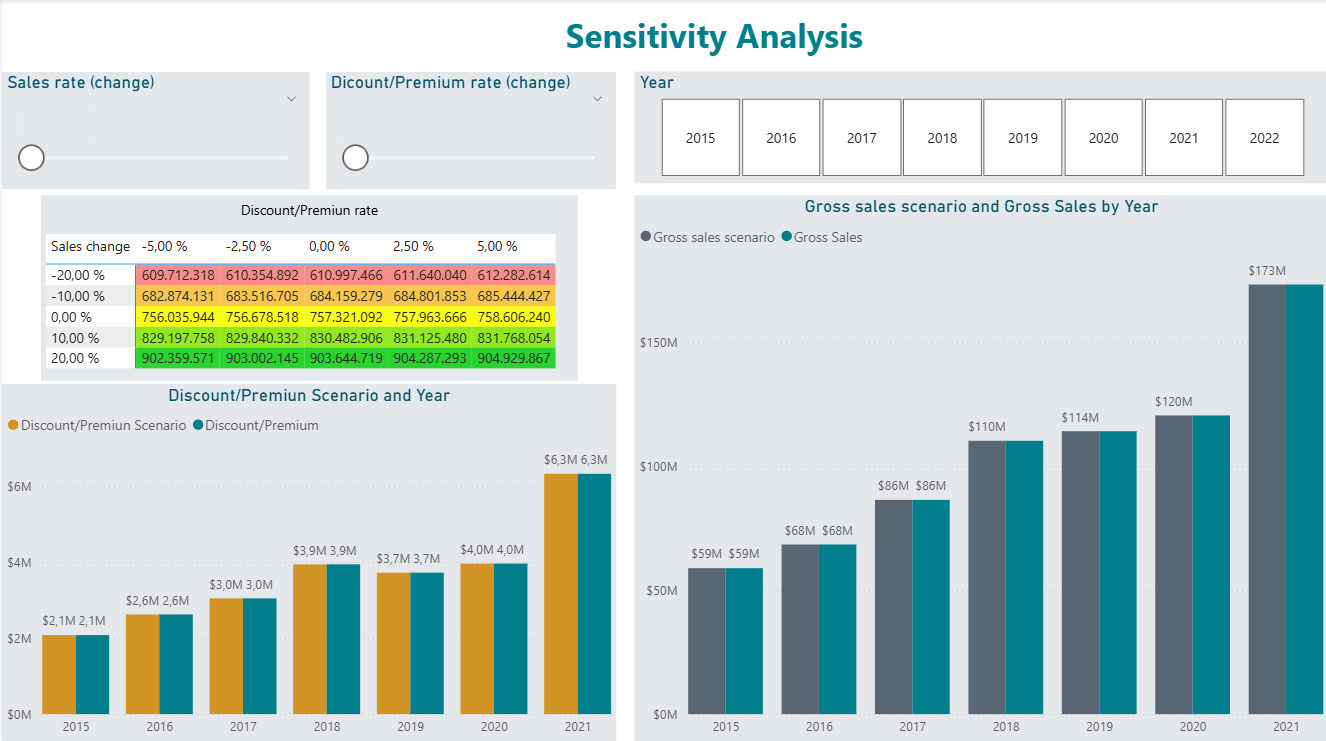

The dashboard page shown, as its layout file describes it:
{"tool":"powerbi","page":{"name":"Sensitivity Analysis","canvas":[1280,720],"ordinal":4},"visuals":[{"type":"slicer","title":"Sales rate (change)","fields":{"Values":["Sales change.Sales change"]},"box":[0,69.7,297.1,113.7],"z":0},{"type":"slicer","title":"Dicount/Premium rate (change)","fields":{"Values":["Discount/Premiun Change.Discount/Premiun Change"]},"box":[313,69.7,280,113.7],"z":1000},{"type":"clusteredColumnChart","title":"Discount/Premiun Scenario and Year","fields":{"Category":["Calendar.Date.Variation.Date Hierarchy.Year","Calendar.Date.Variation.Date Hierarchy.Quarter","Calendar.Date.Variation.Date Hierarchy.Month","Calendar.Date.Variation.Date Hierarchy.Day"],"Y":["Forecast.Discount/Premiun Scenario","Sum(Sales_Fact.Discount/Premium)"]},"box":[0,371.7,593.1,348.5],"z":2000},{"type":"pivotTable","fields":{"Rows":["Sales change.Sales change"],"Columns":["Discount/Premiun Change.Discount/Premiun Change"],"Values":["Forecast.Revenue Sensibility"]},"box":[37.9,222.6,518.5,146.7],"z":3000},{"type":"clusteredColumnChart","fields":{"Category":["Calendar.Date.Variation.Date Hierarchy.Year","Calendar.Date.Variation.Date Hierarchy.Quarter","Calendar.Date.Variation.Date Hierarchy.Month","Calendar.Date.Variation.Date Hierarchy.Day"],"Y":["Forecast.Gross sales scenario","Sum(Sales_Fact.Gross Sales)"]},"box":[610.2,189.5,670.1,530.7],"z":4000},{"type":"slicer","title":"Year","fields":{"Values":["Calendar.Date.Variation.Date Hierarchy.Year"]},"box":[610.2,69.7,670.1,107.6],"z":5000},{"type":"textbox","box":[326.5,8.6,721.5,62.4],"z":6000},{"type":"textbox","box":[37.9,189.5,518.5,33],"z":7000}]}

Visuals, with their boxes in screenshot pixels (x1, y1, x2, y2), scaled from the page's 1280x720 canvas onto the 1326x741 screenshot:
"Sales rate (change)" slicer: select_region(0, 72, 308, 189)
"Dicount/Premium rate (change)" slicer: select_region(324, 72, 614, 189)
"Discount/Premiun Scenario and Year" clusteredColumnChart: select_region(0, 383, 614, 740)
pivotTable - Sales change.Sales change x Discount/Premiun Change.Discount/Premiun Change: select_region(39, 229, 576, 380)
clusteredColumnChart - Calendar.Date.Variation.Date Hierarchy.Year x Calendar.Date.Variation.Date Hierarchy.Quarter: select_region(632, 195, 1325, 740)
"Year" slicer: select_region(632, 72, 1325, 182)
textbox: select_region(338, 9, 1086, 73)
textbox: select_region(39, 195, 576, 229)
